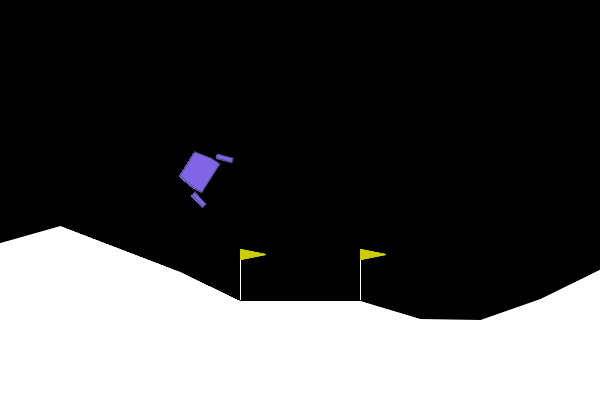lander: (169, 138, 235, 210)
